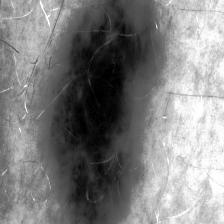Benign Marking or Mole: (49, 0, 156, 224)
